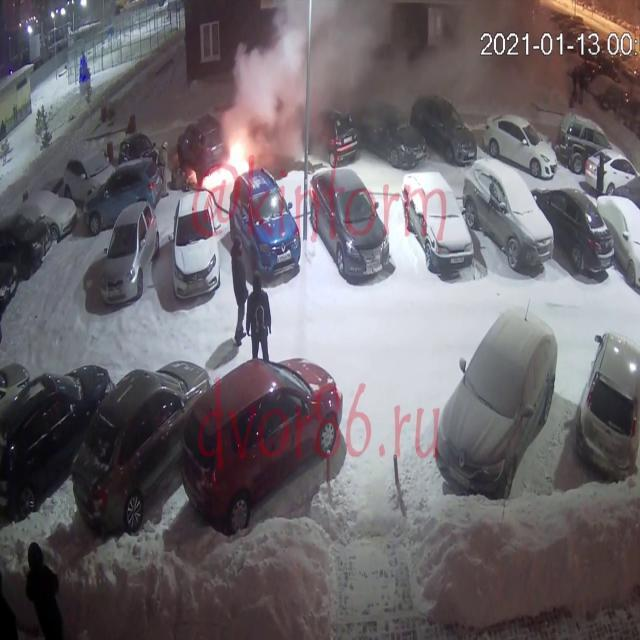Fire: (222, 126, 254, 184)
Smoke: (226, 0, 417, 156)
